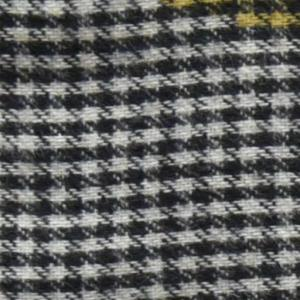Stain: (155, 1, 300, 38)
